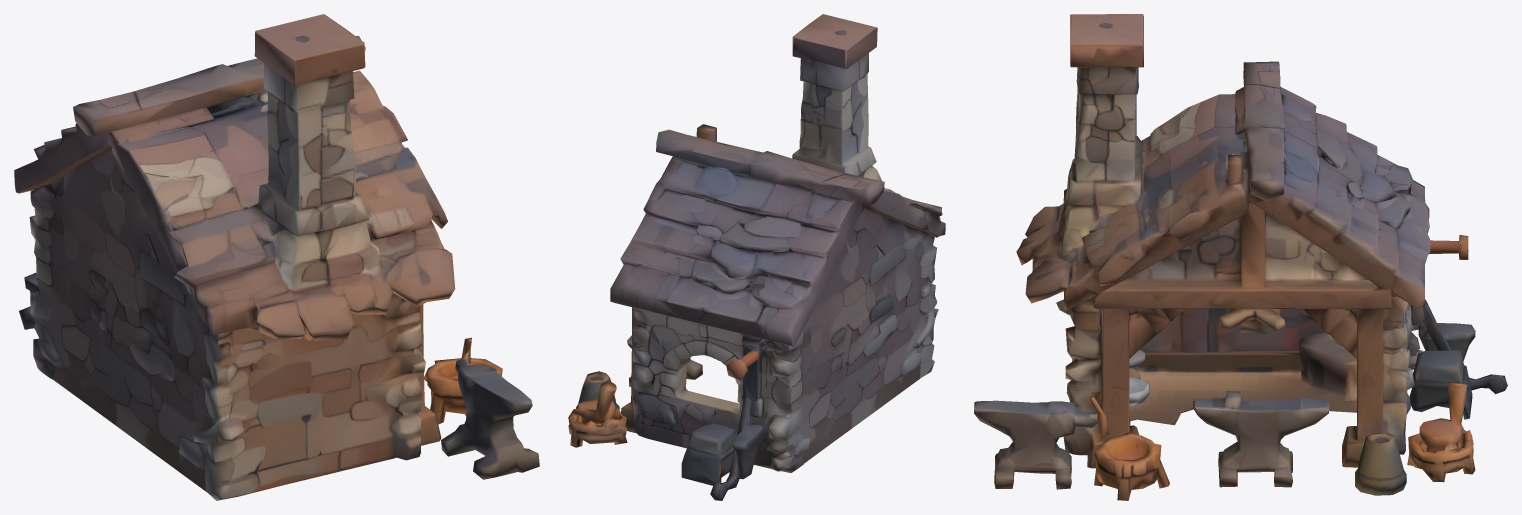
The model's file is forge-tripo-original.glb.
3 views of the same model, side by side, from view 1: azimuth 30°, elevation 25°; view 2: azimuth 150°, elevation 25°; view 3: azimuth 270°, elevation 25° (orthographic). The views are drawn at different scales.
Parts seen in each view (by area): view 1: tripo_node_4057a9da-ca33-4f57-9bde-d3b7e2753d25; view 2: tripo_node_4057a9da-ca33-4f57-9bde-d3b7e2753d25; view 3: tripo_node_4057a9da-ca33-4f57-9bde-d3b7e2753d25.
Part boxes in pixels (x1,y1,x2,y2): tripo_node_4057a9da-ca33-4f57-9bde-d3b7e2753d25: [14, 14, 539, 500]; tripo_node_4057a9da-ca33-4f57-9bde-d3b7e2753d25: [568, 14, 945, 500]; tripo_node_4057a9da-ca33-4f57-9bde-d3b7e2753d25: [974, 14, 1507, 500].
Size of the model in its own units: 0.6724 by 0.81 by 0.9985.
1 material, 1 textured.
